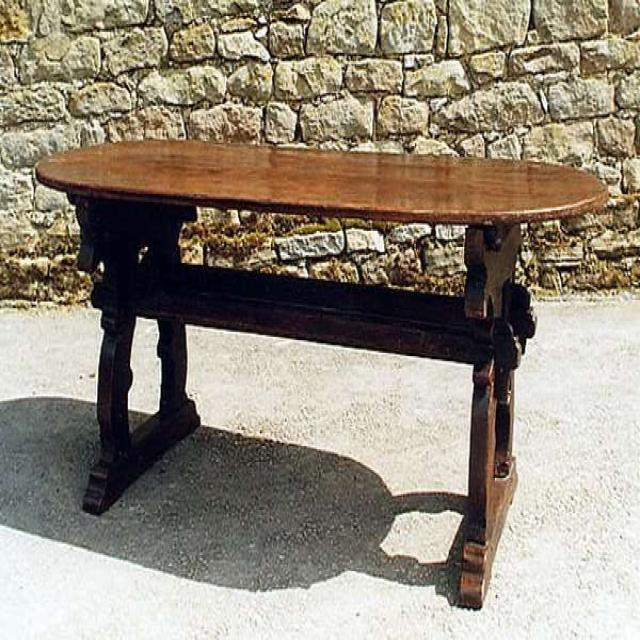table: (36, 134, 608, 612)
